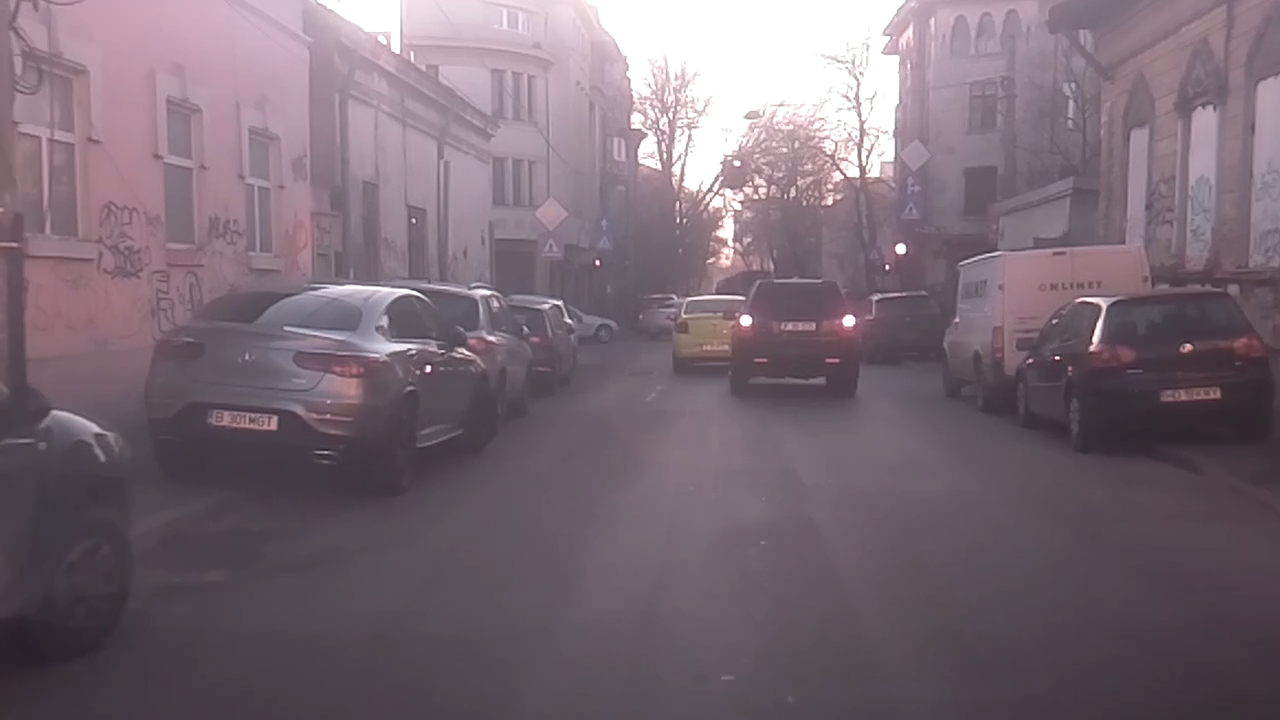license-plate: (203, 404, 281, 433)
